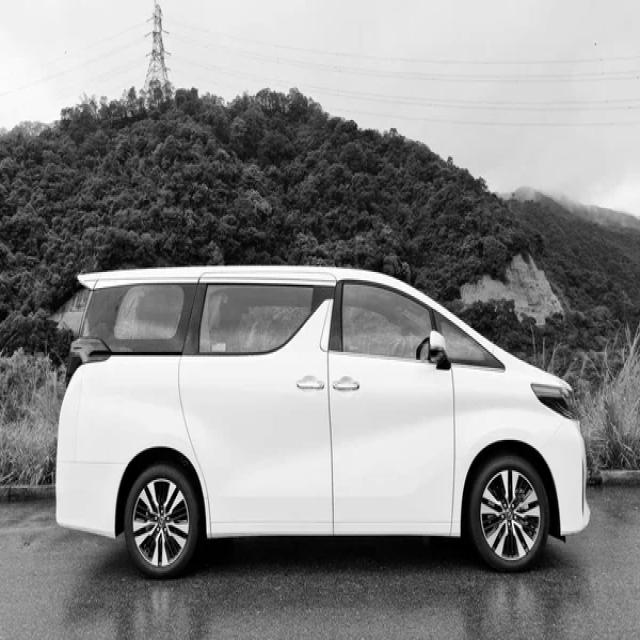Car: (56, 266, 591, 576)
